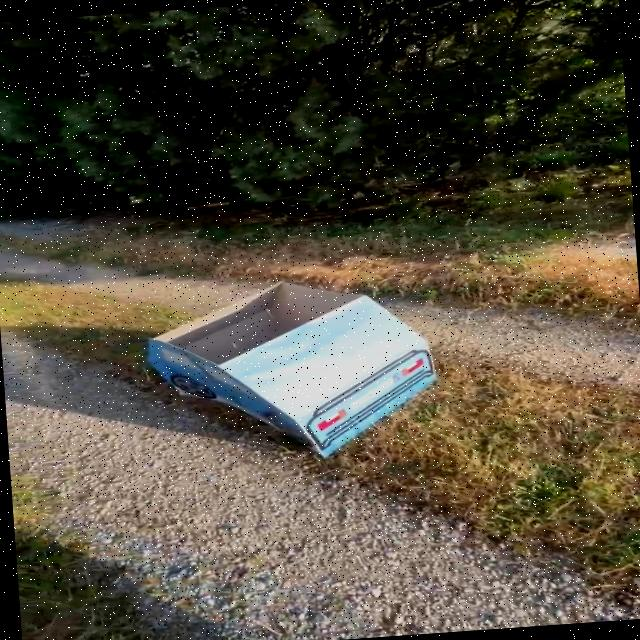blue_car: (86, 238, 466, 494)
